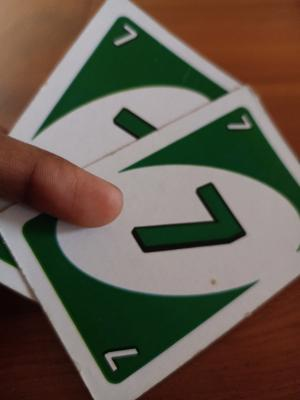green: (101, 52, 241, 313)
num_7: (95, 340, 143, 374), (107, 19, 144, 54), (225, 111, 253, 135)
